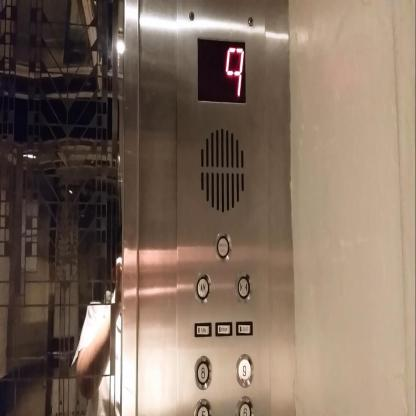8: (192, 353, 213, 392)
9: (233, 350, 254, 389)
close: (233, 269, 253, 304)
led: (195, 35, 247, 106)
open: (192, 269, 213, 305)
switch: (234, 319, 253, 338), (193, 320, 212, 338), (214, 319, 232, 338)
text_blur: (212, 228, 233, 264)
